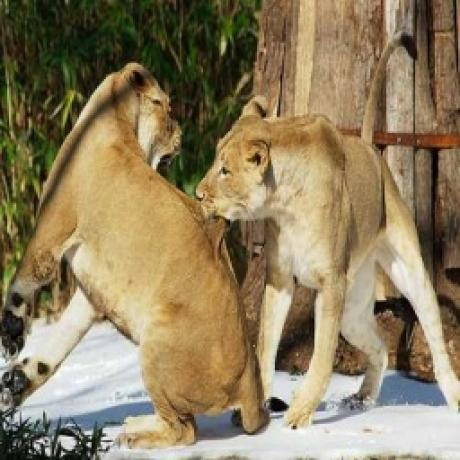Lion: (194, 26, 460, 433), (0, 58, 268, 451)
